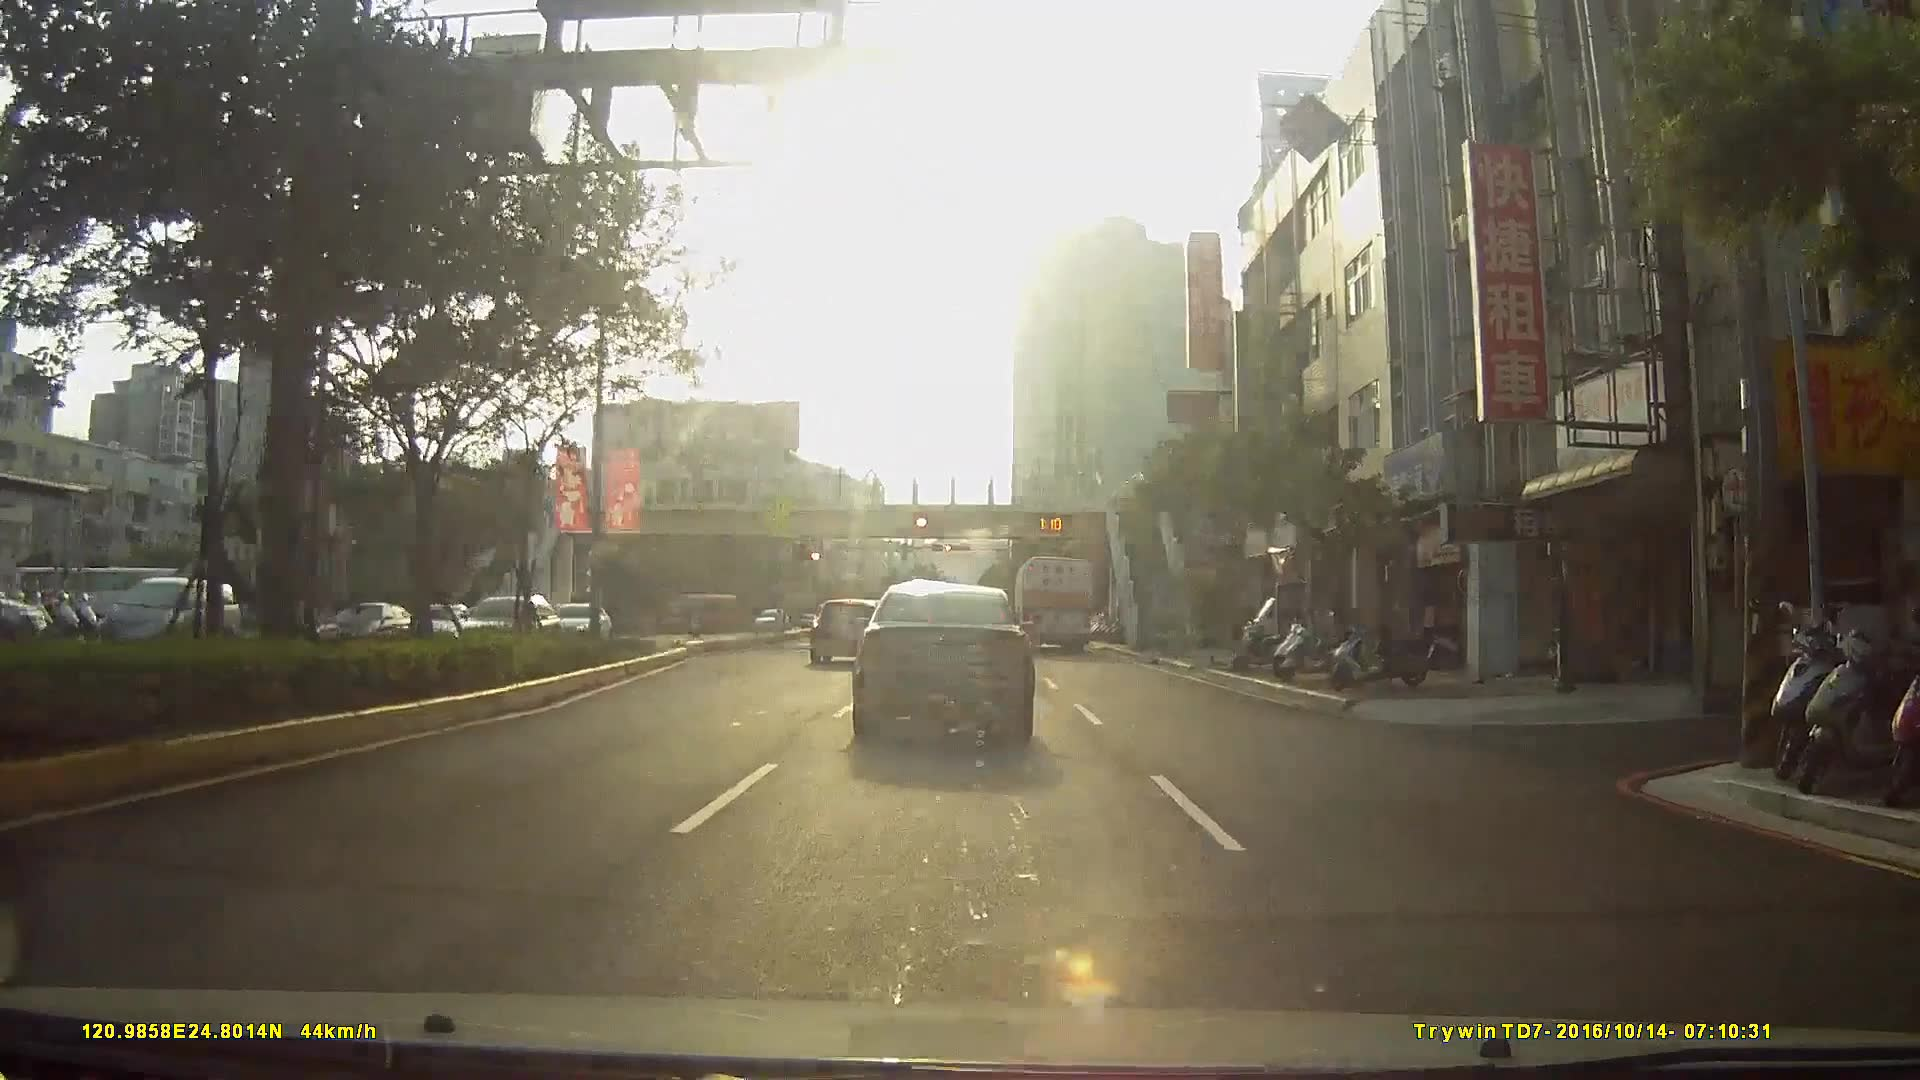vehicle: (851, 580, 1036, 738), (88, 575, 233, 658), (1011, 555, 1097, 654), (806, 596, 880, 667), (750, 607, 791, 632)
